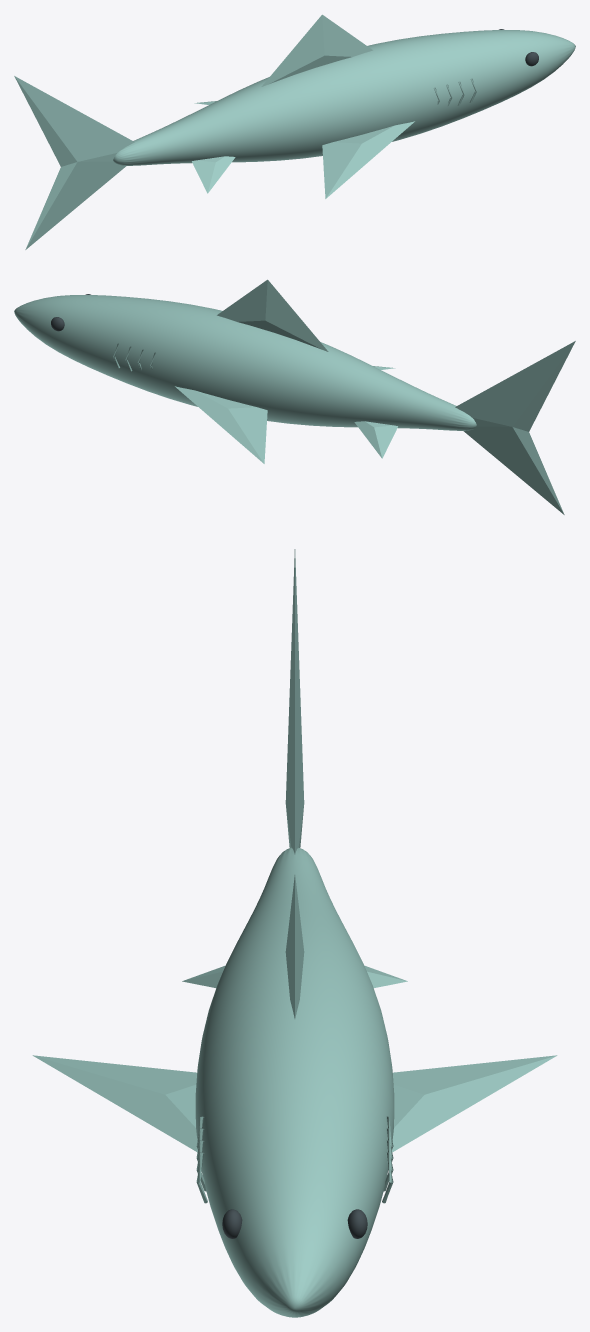
The picture shows the model from 3 angles, top to bottom: view 1: azimuth 30°, elevation 25°; view 2: azimuth 150°, elevation 25°; view 3: azimuth 270°, elevation 25°; orthographic projection. The views are drawn at different scales.
Visible parts, largest first — view 1: Body, Tail, Dorsal, Pectoral, Pelvic; view 2: Body, Tail, Dorsal, Pectoral.001, Pelvic.001; view 3: Body, Pectoral.001, Pectoral, Tail, Dorsal.
Part boxes in pixels (x1,y1,x2,y2): Body: (113, 30, 575, 165); Tail: (14, 76, 134, 249); Dorsal: (261, 14, 372, 86); Pectoral: (322, 121, 414, 198); Pelvic: (192, 156, 235, 193); Body: (14, 295, 476, 430); Tail: (455, 341, 575, 514); Dorsal: (217, 279, 328, 351); Pectoral.001: (175, 386, 267, 463); Pelvic.001: (354, 421, 397, 458); Body: (195, 847, 394, 1317); Pectoral.001: (392, 1055, 557, 1152); Pectoral: (32, 1055, 197, 1152); Tail: (285, 549, 304, 854); Dorsal: (285, 875, 304, 1018).
Bounding box in the file's own units: 252 × 76 × 102.
